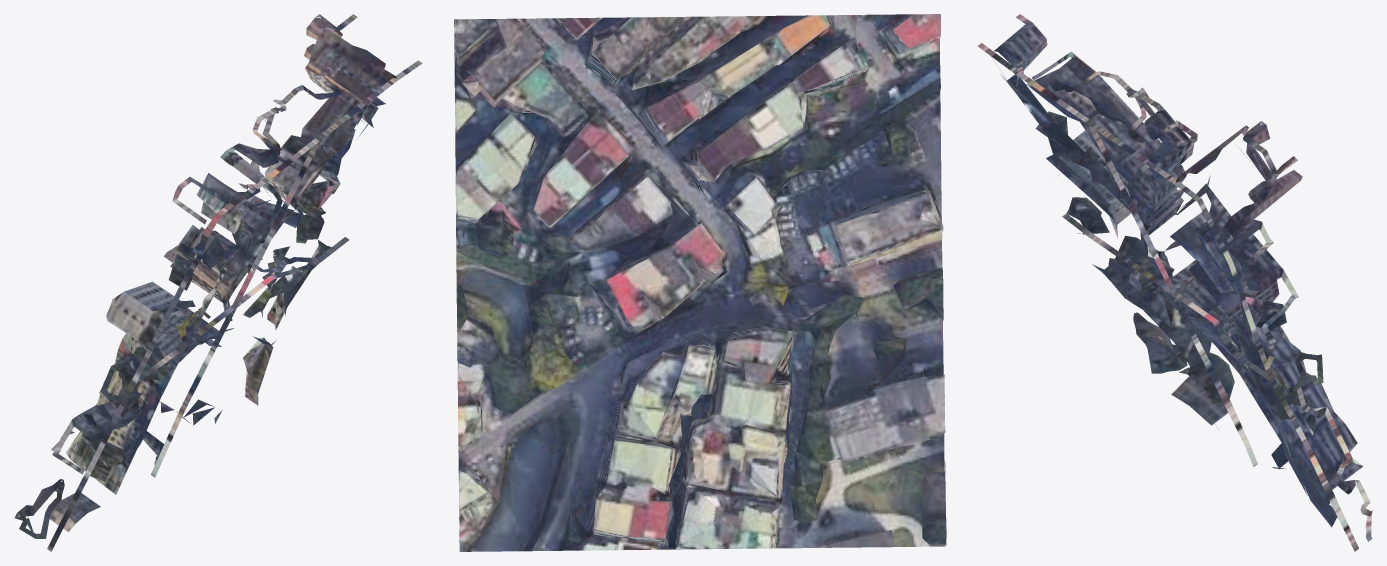
The picture shows the model from 3 angles, left to right: view 1: azimuth 30°, elevation 25°; view 2: azimuth 150°, elevation 25°; view 3: azimuth 270°, elevation 25°; orthographic projection. The views are drawn at different scales.
Size of the model in its own units: 160 by 155 by 128.
Materials: 1 (1 with a texture image).
